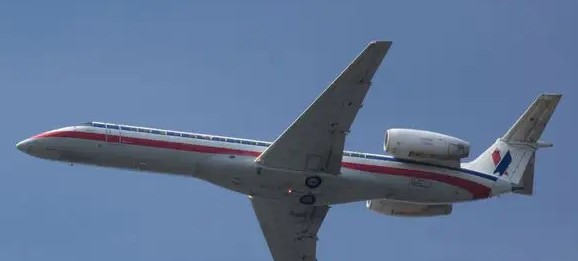plane: (15, 39, 563, 261)
